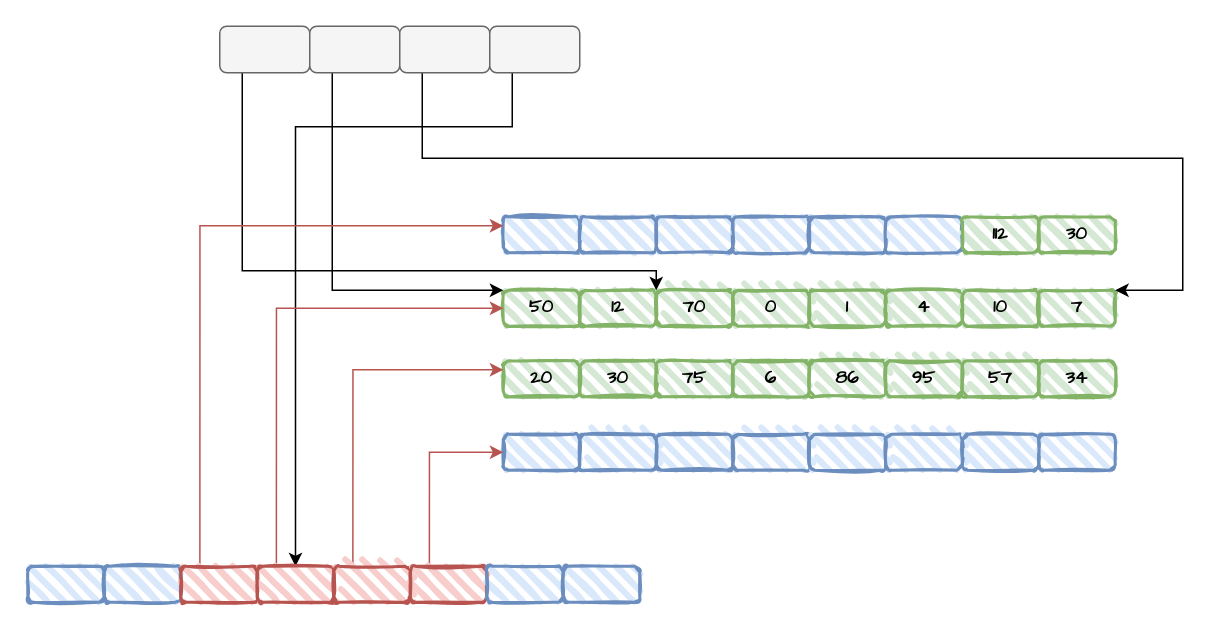
The diagram is 1221 pixels wide and 630 high, and some of its shapes have lost their labels. The shapes that lost their labels are listed below. From the top down, each one's box as (x1, y1, x2, y2) in pixels, then its label:
(218, 25, 310, 73): cur
(308, 25, 400, 73): first
(398, 25, 490, 73): last
(488, 25, 580, 73): node
